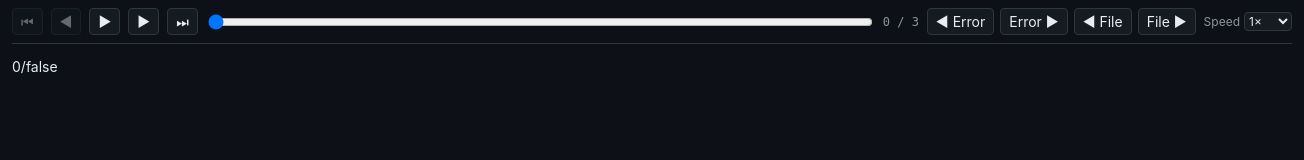
ReplayControls › jumps to the last step and disables forward controls there
The width and height of the screenshot is (1304, 160).
Click the button named "Last step": point(182, 22) x1=167 y1=8 x2=198 y2=35
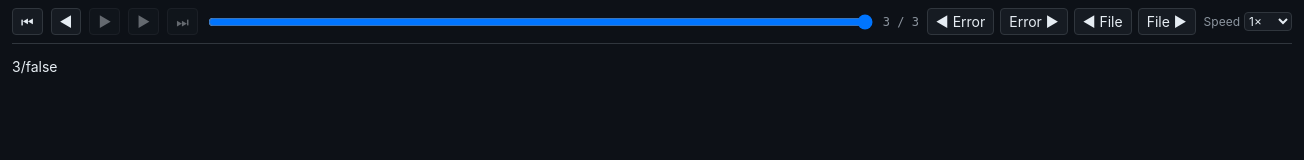
Expected: the text with test id "state" reads "3/false", x1=12 y1=58 x2=58 y2=75
Expected: the button named "Step forward" is disabled, x1=128 y1=8 x2=159 y2=35
Expected: the button named "Last step" is disabled, x1=167 y1=8 x2=198 y2=35
